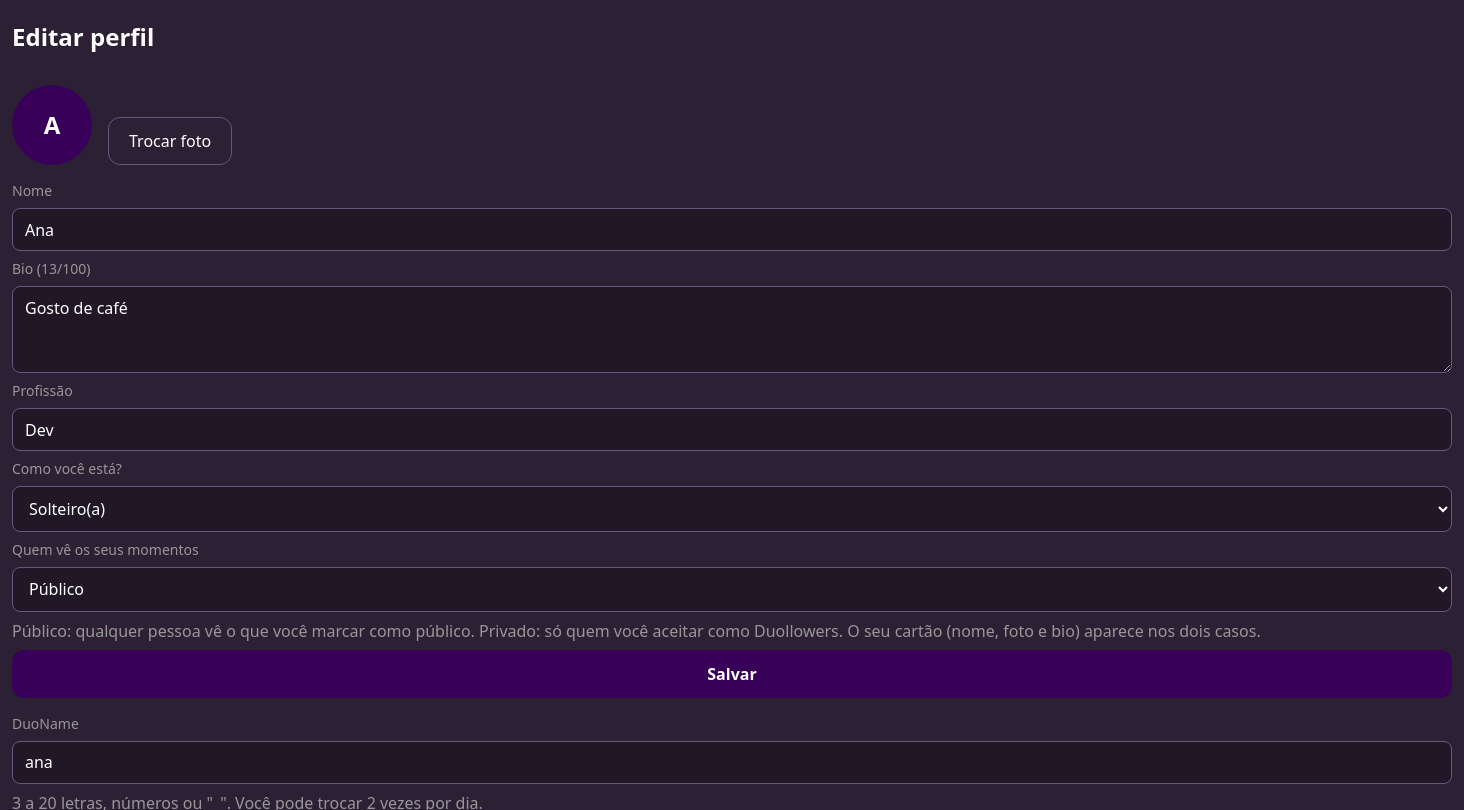
EditProfileForm › o botão de trocar DuoName só vale para um nome novo e válido
The width and height of the screenshot is (1464, 810).
Replace the text in the field labelled "DuoName" with "a!" at (732, 762), box [12, 741, 1452, 784]
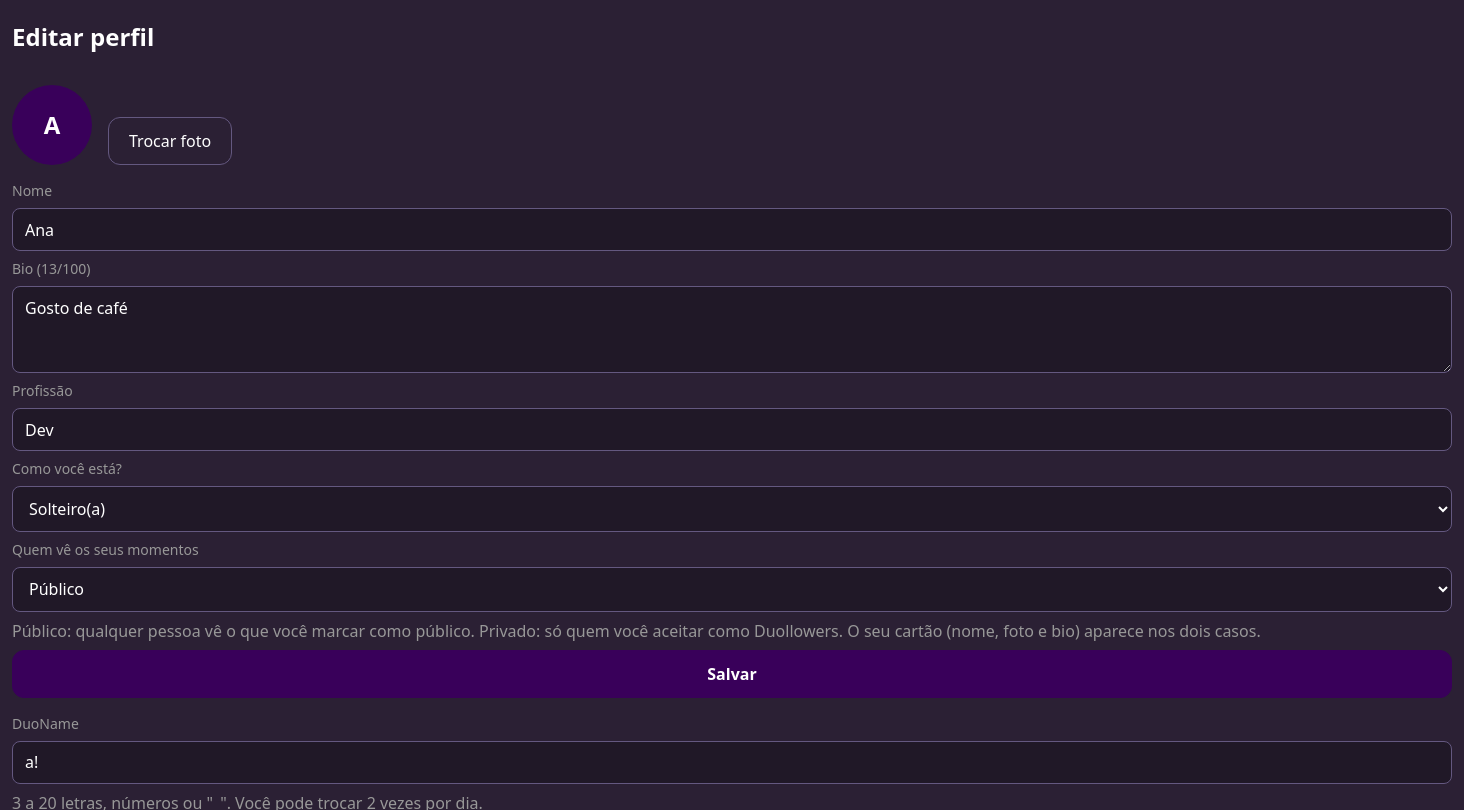
Replace the text in the field labelled "DuoName" with "ana_nova" at (732, 762), box [12, 741, 1452, 784]
(page scrolled)
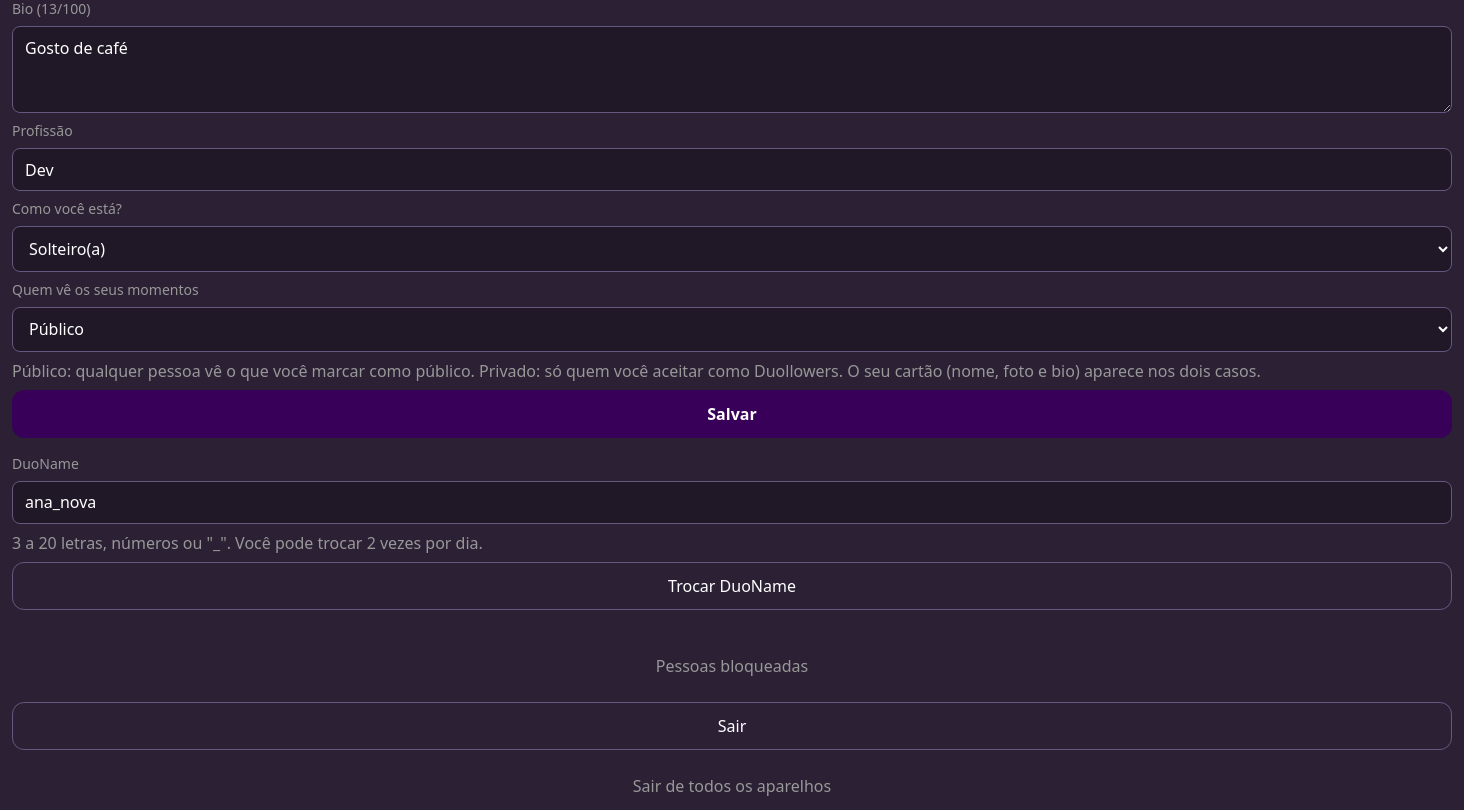
Check: the button "Trocar DuoName" is enabled, box [12, 562, 1452, 610]
